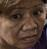without_mask: (1, 2, 47, 49)
